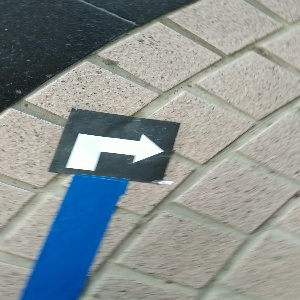right: (49, 107, 179, 185)
